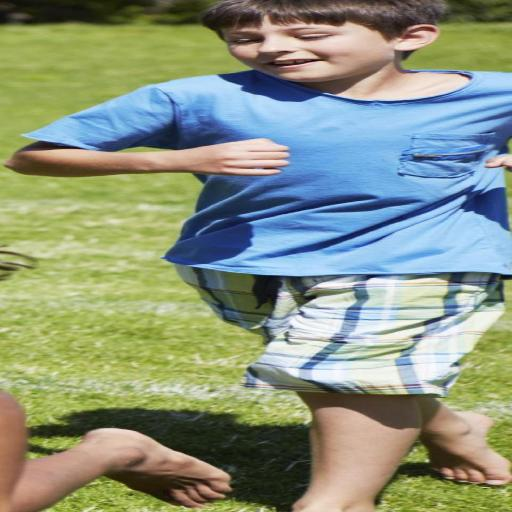person: (7, 0, 511, 511), (0, 390, 230, 511)
